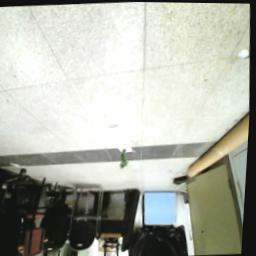herb: (120, 149, 132, 170)
